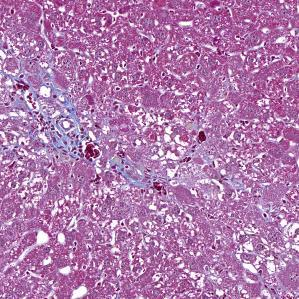fibrosis: (34, 97, 92, 151), (119, 157, 193, 194)
